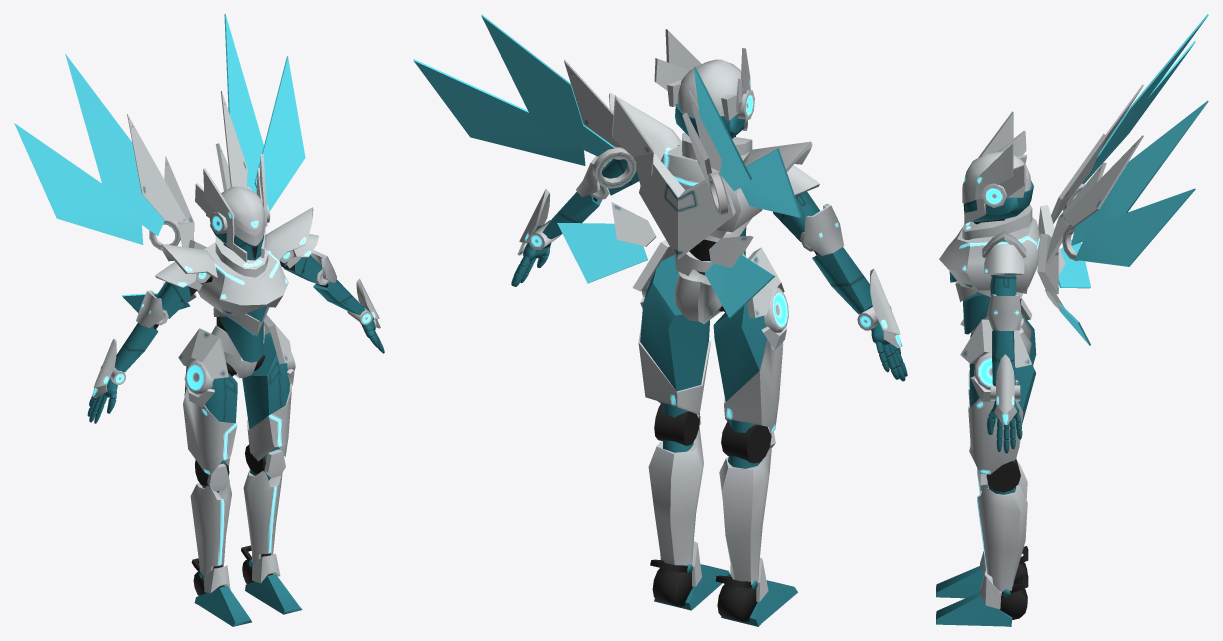
File: Female_2.glb
The picture shows the model from 3 angles, left to right: view 1: azimuth 30°, elevation 25°; view 2: azimuth 150°, elevation 25°; view 3: azimuth 270°, elevation 25°; orthographic projection. The views are drawn at different scales.
Parts seen in each view (by area): view 1: W1, WW2, WW1, GNG, BR1, GV2, GV1, NT, BR2, GV1.1, ARM1; view 2: W1, WW2, WW1, GNG, GV2, BR1, GV1, ARM1, BR2; view 3: W1, WW2, WW1, GNG, BR2, NT, GV2.2, ARM2, GV2.
Boxes of the visible parts, <box> form: W1: <box>87,154,384,626</box>; WW2: <box>14,14,305,312</box>; WW1: <box>127,91,247,301</box>; GNG: <box>197,242,288,321</box>; BR1: <box>178,328,228,378</box>; GV2: <box>265,207,313,260</box>; GV1: <box>161,244,217,279</box>; NT: <box>215,236,268,277</box>; BR2: <box>263,314,292,363</box>; GV1.1: <box>155,262,196,287</box>; ARM1: <box>93,338,116,387</box>; W1: <box>511,29,907,626</box>; WW2: <box>413,14,801,318</box>; WW1: <box>564,59,753,267</box>; GNG: <box>661,144,762,238</box>; GV2: <box>609,92,681,160</box>; BR1: <box>747,247,784,317</box>; GV1: <box>739,141,812,188</box>; ARM1: <box>870,268,900,334</box>; BR2: <box>632,240,674,291</box>; W1: <box>936,111,1036,626</box>; WW2: <box>1058,14,1208,345</box>; WW1: <box>1037,84,1143,311</box>; GNG: <box>939,217,1039,293</box>; BR2: <box>960,319,1032,367</box>; NT: <box>962,204,1032,239</box>; GV2.2: <box>984,244,1024,275</box>; ARM2: <box>996,354,1014,414</box>; GV2: <box>982,231,1026,257</box>.
Bounding box in the file's own units: 3.6 × 5.8 × 2.62.
2 materials, 2 textured.
